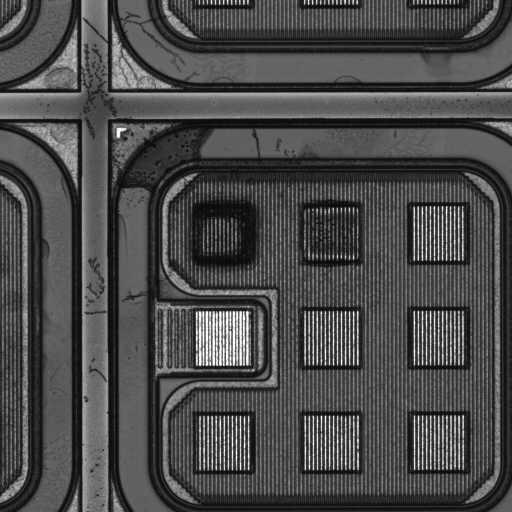SEZ BURNT: (8, 7, 498, 378)
